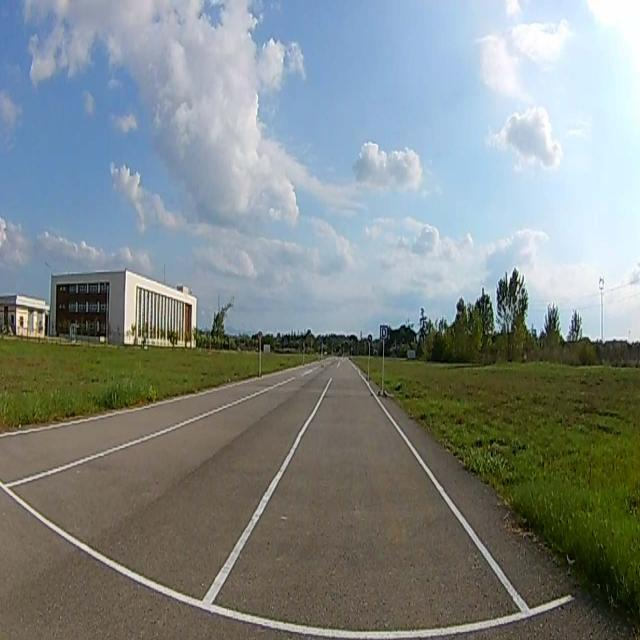durak: (380, 325, 388, 339)
